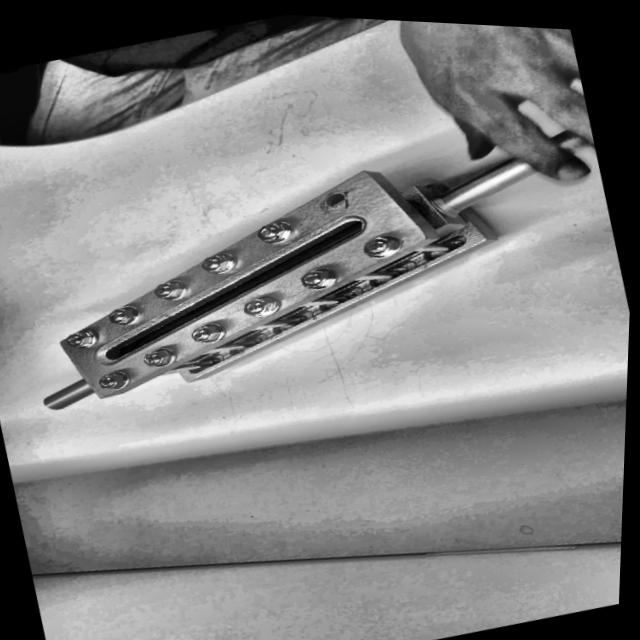ShuiWeiQi_11: (0, 87, 541, 470)
